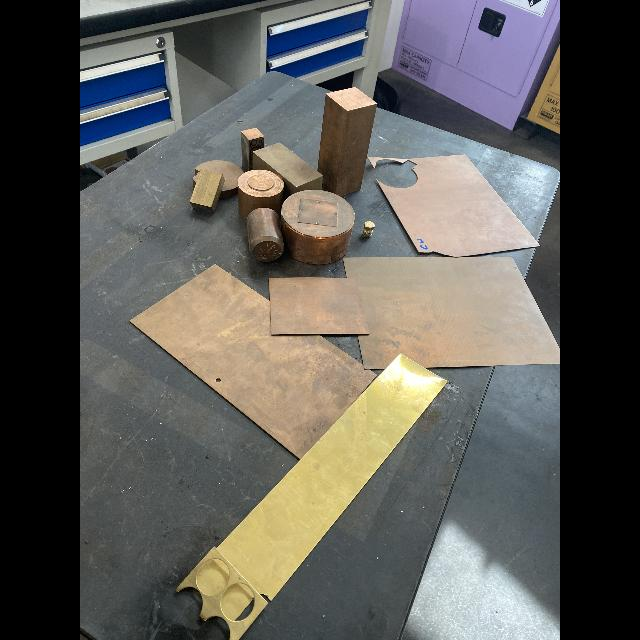Brass: (177, 354, 447, 640), (130, 265, 375, 459), (344, 256, 560, 370), (318, 87, 376, 196), (281, 190, 355, 264), (253, 143, 323, 195), (190, 170, 225, 213), (363, 221, 375, 238)
Copper: (367, 154, 538, 258), (238, 170, 284, 219), (247, 208, 284, 262), (193, 160, 243, 198), (241, 128, 264, 172), (310, 291, 315, 297)
